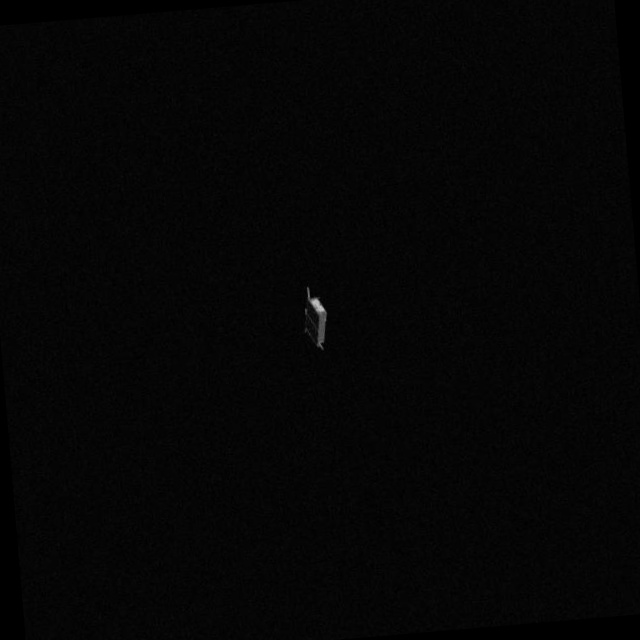medium_debris: (291, 283, 331, 358)
